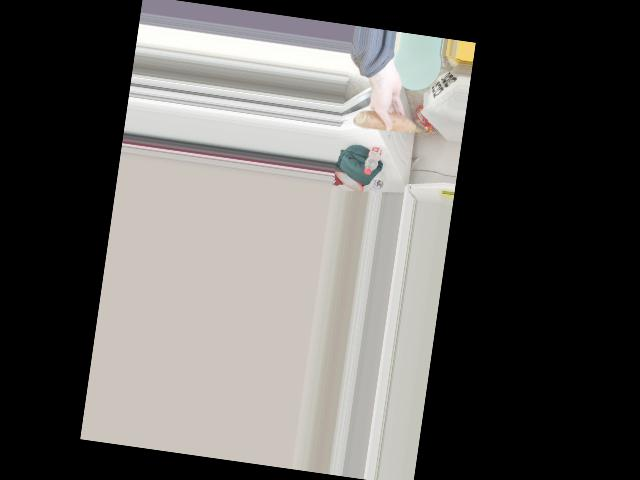sweet_potato: (359, 108, 420, 135)
